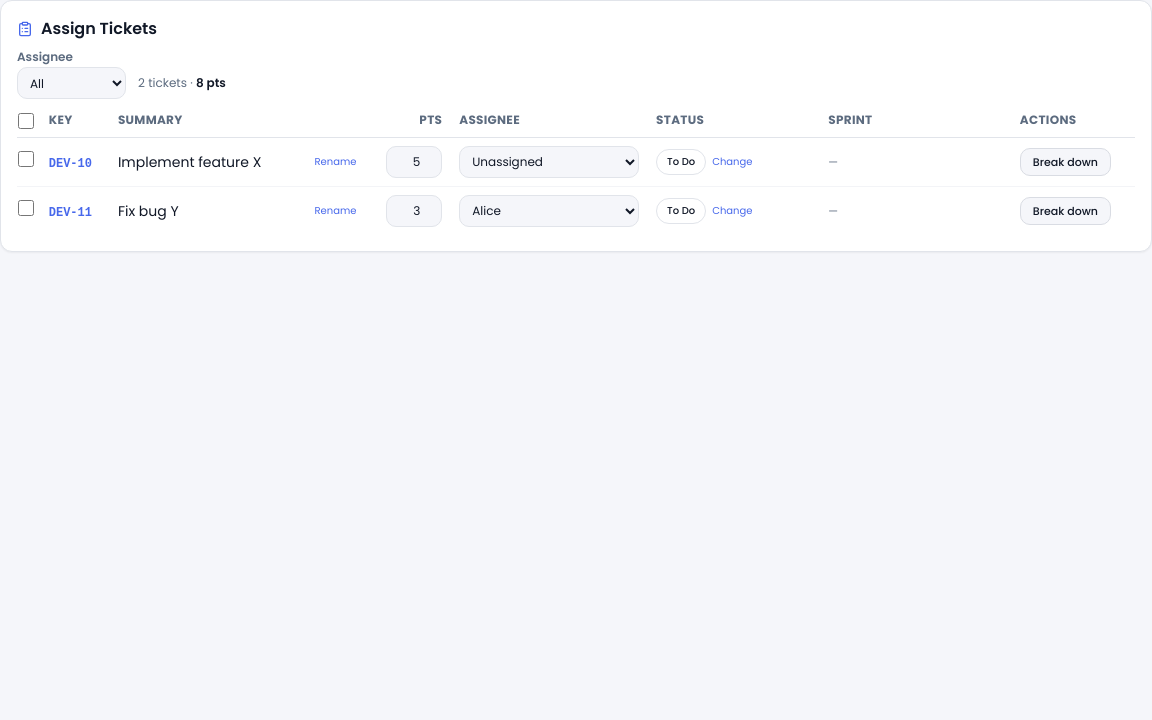
AssignmentList — v1.70 (ADR-081) breakdown dialog workflow › locks succeeded rows on partial failure; only the failed row is retryable and never duplicated
The image size is (1152, 720).
Expected: the text "Implement feature X" is shown, [118,152,261,172]
Click the button with aria-label "Break down DEV-10": (1065, 162) [1020,148,1111,176]
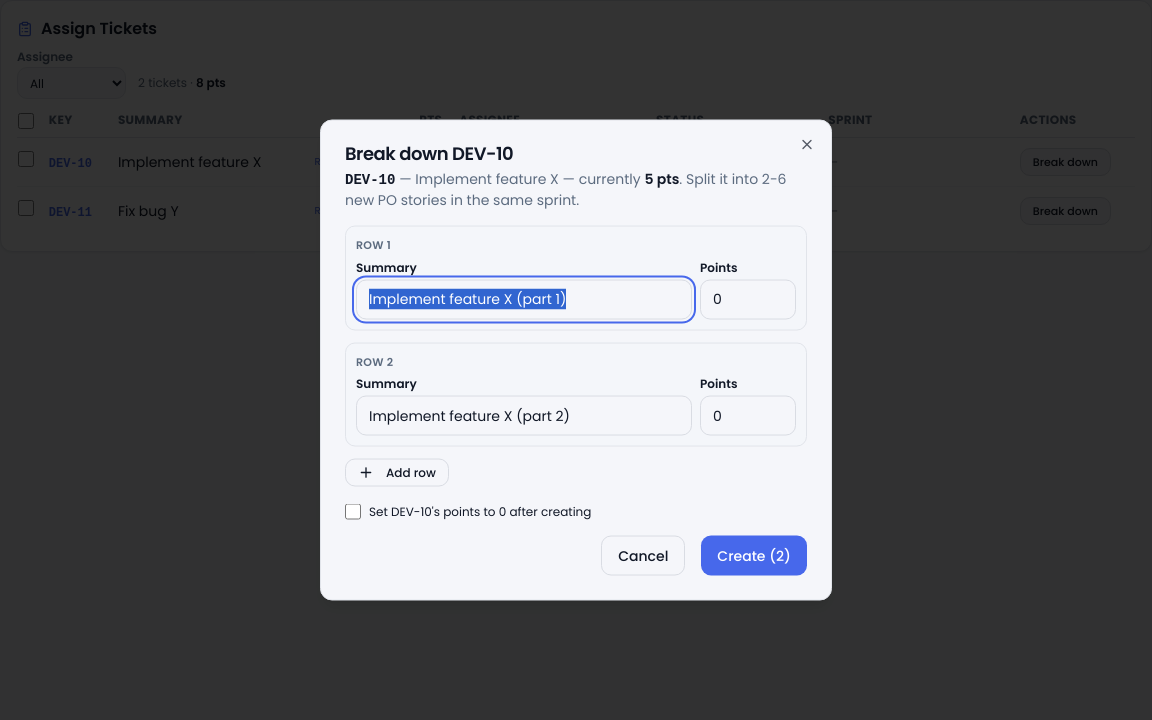
Expected: the dialog is shown, [320,120,832,600]
Click the button "Create (2)": (754, 556) [701,536,807,576]
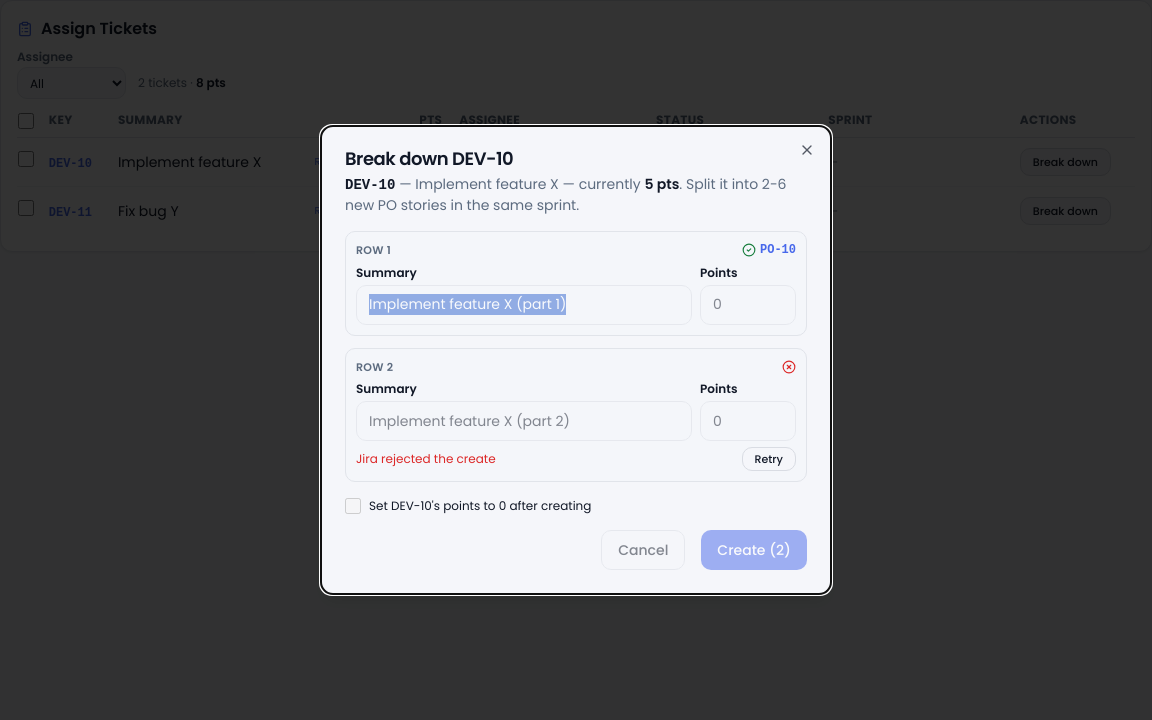
Expected: the link with aria-label "Open PO-10 in Jira" is shown, [742,242,796,258]
Expected: the text "Jira rejected the create" is shown, [356,451,496,467]
Click the button with aria-label "Retry row 2": (769, 459) [742,447,796,471]
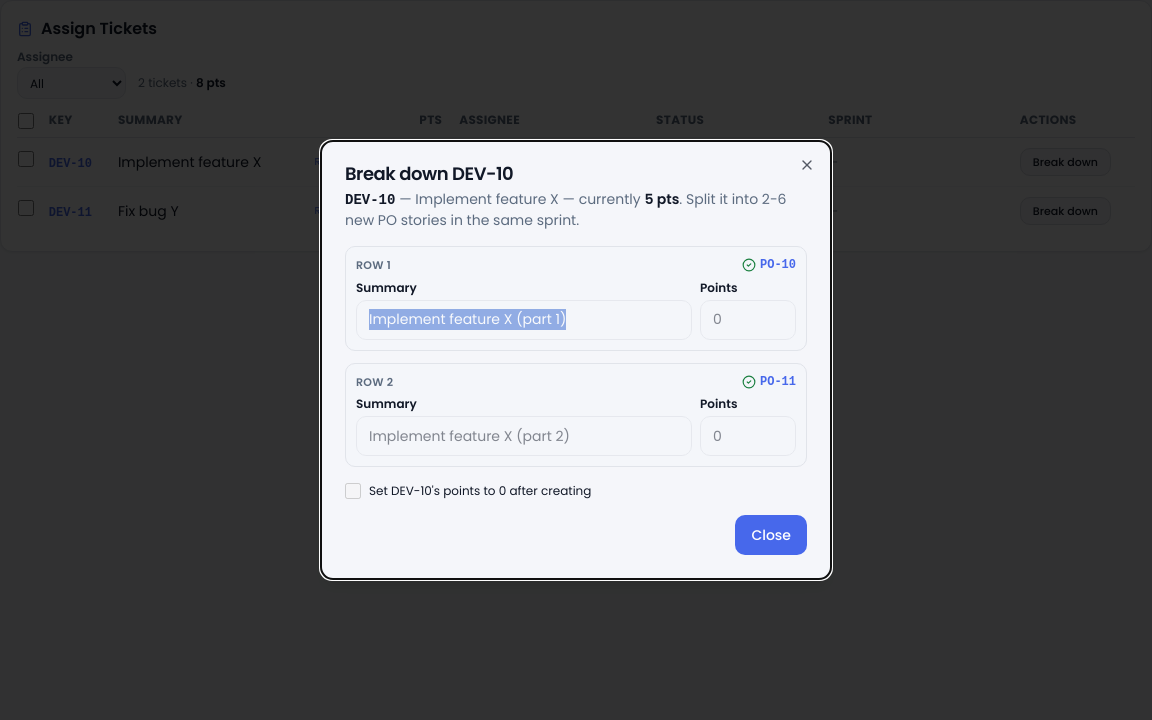
Expected: the link with aria-label "Open PO-11 in Jira" is shown, [742,374,796,390]
